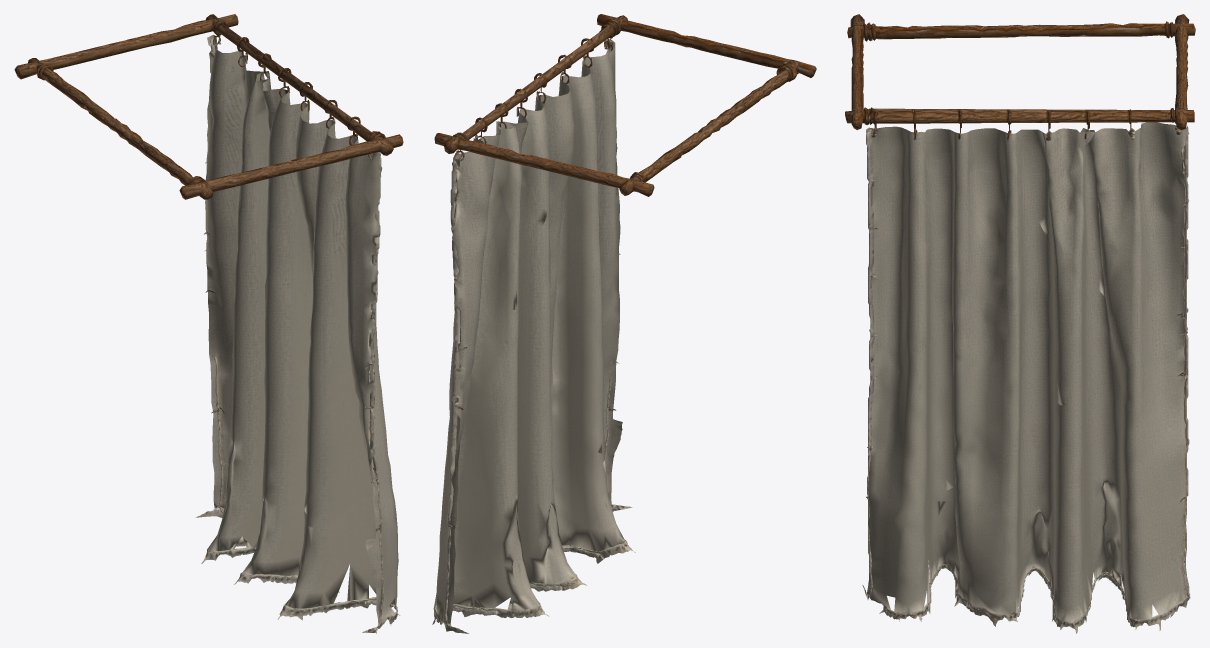
The picture shows the model from 3 angles, left to right: view 1: azimuth 30°, elevation 25°; view 2: azimuth 150°, elevation 25°; view 3: azimuth 270°, elevation 25°; orthographic projection.
Parts seen in each view (by area): view 1: tripo_node_8da21c23-9814-42c2-abb2-fb1914c2e417; view 2: tripo_node_8da21c23-9814-42c2-abb2-fb1914c2e417; view 3: tripo_node_8da21c23-9814-42c2-abb2-fb1914c2e417.
Part boxes in pixels (box(x1,y1,x2,y2)): tripo_node_8da21c23-9814-42c2-abb2-fb1914c2e417: box(14, 14, 403, 633); tripo_node_8da21c23-9814-42c2-abb2-fb1914c2e417: box(432, 14, 816, 633); tripo_node_8da21c23-9814-42c2-abb2-fb1914c2e417: box(845, 14, 1195, 633).
Size of the model in its own units: 0.4941 by 0.998 by 0.627.
Materials: 1 (1 with a texture image).
